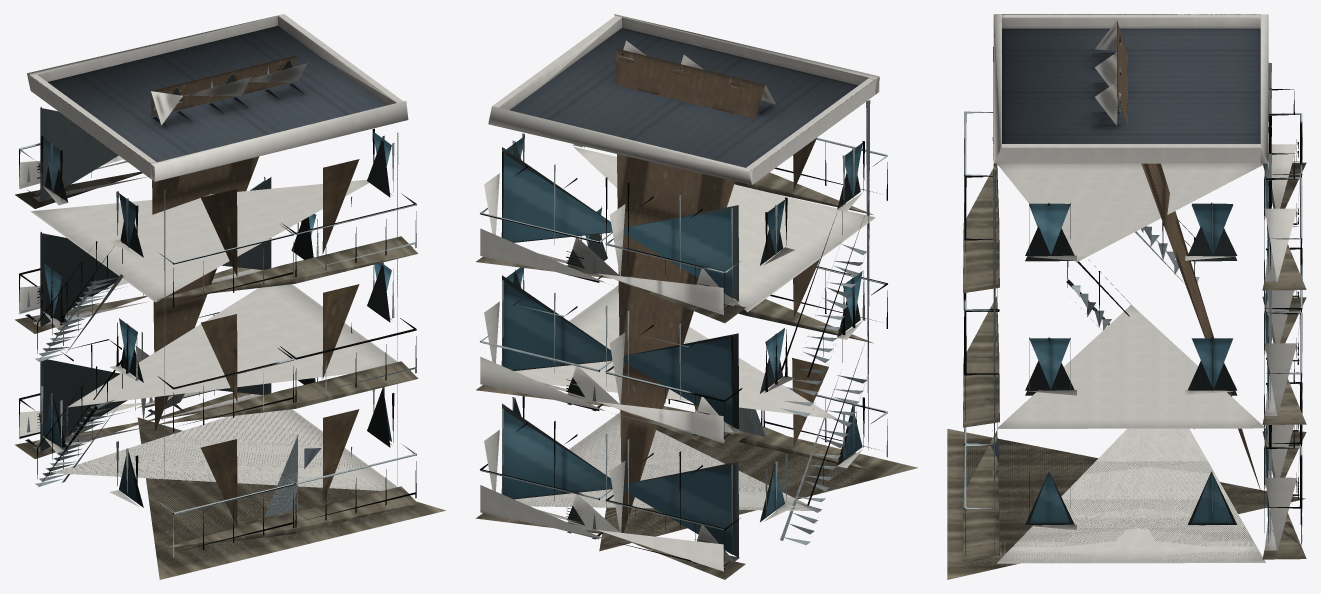
Rendered from residential_016.lod2.obj.
The picture shows the model from 3 angles, left to right: view 1: azimuth 30°, elevation 25°; view 2: azimuth 150°, elevation 25°; view 3: azimuth 270°, elevation 25°; orthographic projection. The views are drawn at different scales.
Visible parts, largest first — view 1: residential_016; view 2: residential_016; view 3: residential_016.
Boxes of the visible parts, x1=… form: residential_016: x1=15, y1=14, x2=445, y2=579; residential_016: x1=475, y1=14, x2=917, y2=579; residential_016: x1=947, y1=14, x2=1306, y2=579.
Size of the model in its own units: 7.34 by 9.86 by 7.2.
1 material, 1 textured.
